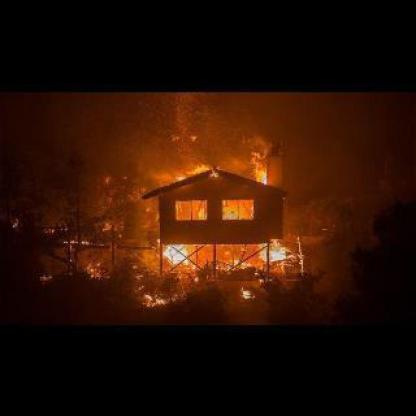fire: (255, 237, 296, 272), (166, 156, 214, 183), (162, 239, 199, 270), (248, 145, 274, 188)
